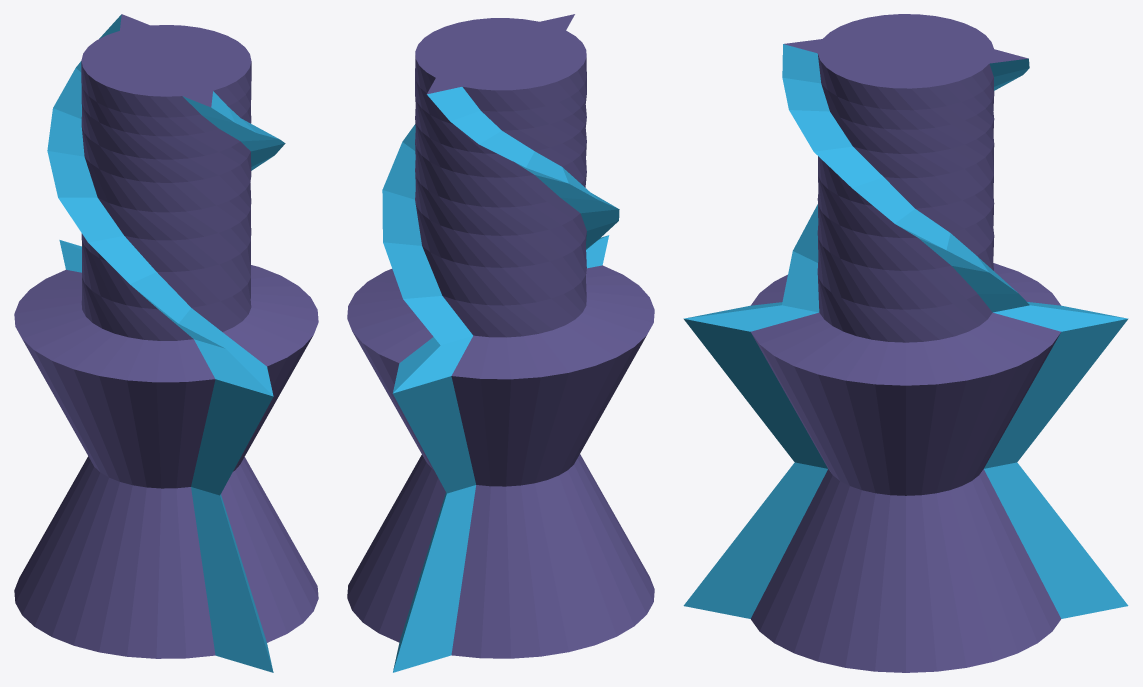
The model's file is obstacle_4.fbx.
3 renders of one model, left to right at view 1: azimuth 30°, elevation 25°; view 2: azimuth 150°, elevation 25°; view 3: azimuth 270°, elevation 25°, orthographic. The views are drawn at different scales.
Visible parts, largest first — view 1: obstacel_4_tower; view 2: obstacel_4_tower; view 3: obstacel_4_tower.
Part boxes in pixels (bbox=[...]): obstacel_4_tower: bbox=[14, 14, 318, 672]; obstacel_4_tower: bbox=[347, 14, 654, 672]; obstacel_4_tower: bbox=[683, 14, 1128, 672].
Size of the model in its own units: 200 by 386 by 281.
